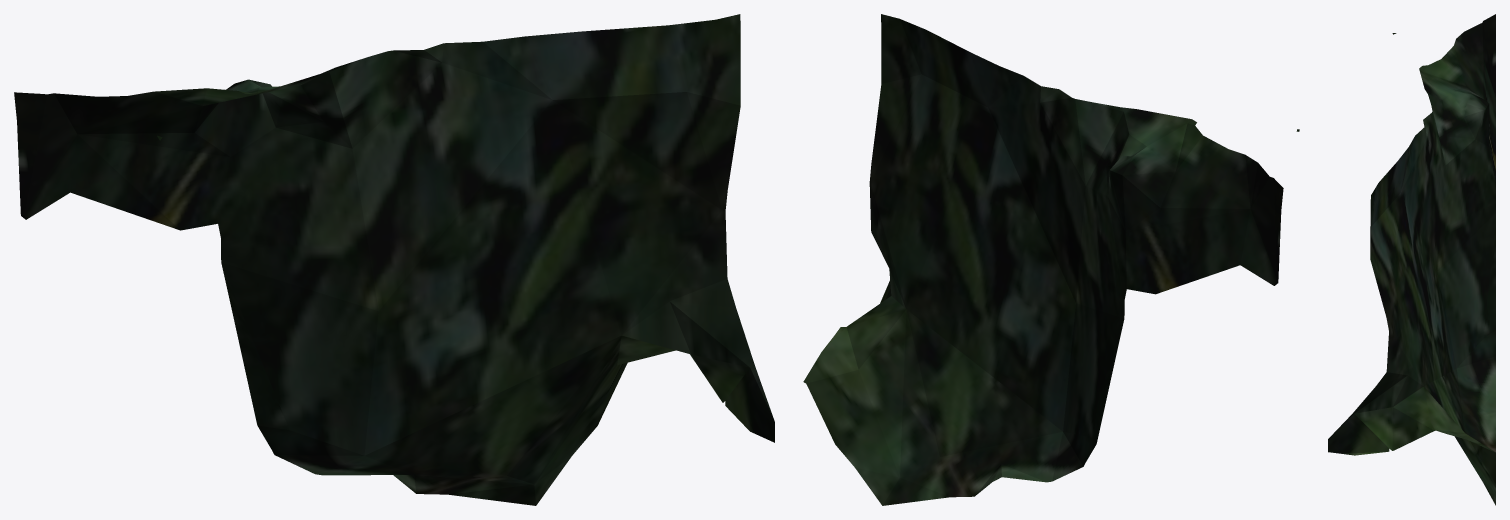
3 renders of one model, left to right at view 1: azimuth 30°, elevation 25°; view 2: azimuth 150°, elevation 25°; view 3: azimuth 270°, elevation 25°, orthographic. The views are drawn at different scales.
Bounding box in the file's own units: 0.5199 × 0.43 × 0.1956.
Materials: 1 (1 with a texture image).
